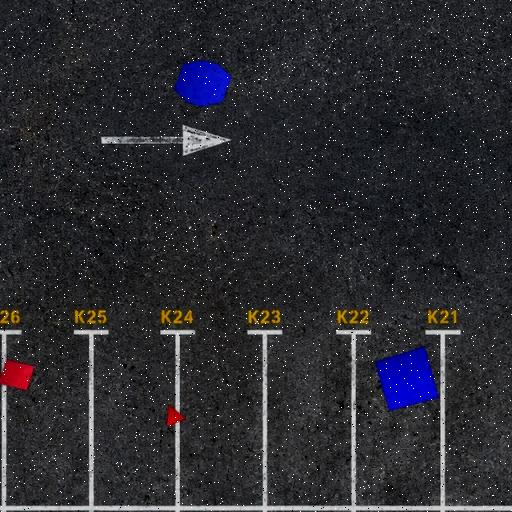BLUE_SQUARE: (374, 346, 440, 412)
RED_SQUARE: (0, 358, 35, 392)
